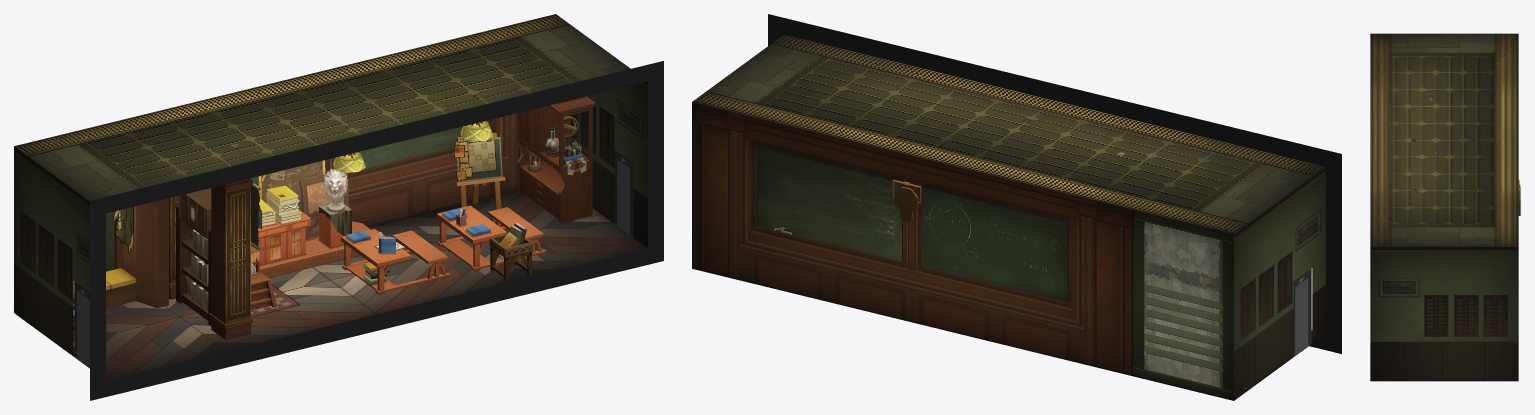
File: classroom.glb
3 renders of one model, left to right at view 1: azimuth 30°, elevation 25°; view 2: azimuth 150°, elevation 25°; view 3: azimuth 270°, elevation 25°, orthographic. The views are drawn at different scales.
Parts seen in each view (by area): view 1: ROOM_room, ROOM_frame, ROOM_floor, lectern_01__furni_classroom_lectern_01, cabinet_01__furni_classroom_cabinet_01, column_01__furni_classroom_column_01.001, bayWindow_01__furni_classroom_bayWindow_01, tableChairGraffiti_01__furni_classroom_tableChairGraffiti_01, tableChairPenRack_01__furni_classroom_tableChairPenRack_01, bookshelf_01__furni_classroom_bookshelf_01, blackboard_01__furni_classroom_blackboard_01, bookBox_01__furni_classroom_bookBox_01 (+7 smaller); view 2: ROOM_room, ROOM_frame, ROOM_DOOR_L, clock_01__furni_classroom_clock_01; view 3: ROOM_room, ROOM_RDoor.
Part boxes in pixels (x1,y1,x2,y2): ROOM_room: (14, 14, 647, 356); ROOM_frame: (90, 61, 663, 400); ROOM_floor: (73, 190, 647, 380); lectern_01__furni_classroom_lectern_01: (251, 160, 370, 277); cabinet_01__furni_classroom_cabinet_01: (517, 96, 595, 223); column_01__furni_classroom_column_01.001: (209, 178, 252, 339); bayWindow_01__furni_classroom_bayWindow_01: (73, 198, 168, 308); tableChairGraffiti_01__furni_classroom_tableChairGraffiti_01: (341, 229, 450, 294); tableChairPenRack_01__furni_classroom_tableChairPenRack_01: (436, 205, 546, 271); bookshelf_01__furni_classroom_bookshelf_01: (176, 189, 211, 326); blackboard_01__furni_classroom_blackboard_01: (455, 133, 505, 209); bookBox_01__furni_classroom_bookBox_01: (489, 223, 532, 281); ROOM_room: (692, 34, 1325, 400); ROOM_frame: (768, 14, 1341, 353); ROOM_DOOR_L: (1293, 268, 1311, 355); clock_01__furni_classroom_clock_01: (892, 179, 921, 221); ROOM_room: (1370, 33, 1518, 381); ROOM_RDoor: (1392, 320, 1422, 381).
Bounding box in the file's own units: 7.92 × 2.64 × 2.23.
9 materials, 9 textured.
